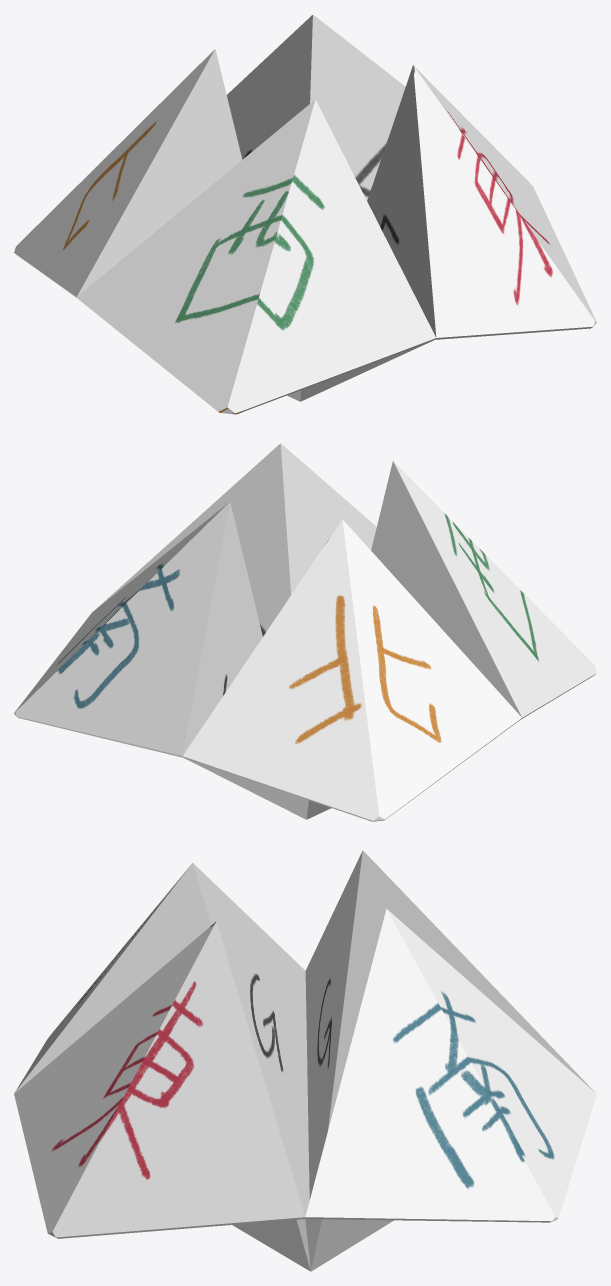
Rendered from paper_fortune_teller.fbx.
The picture shows the model from 3 angles, top to bottom: view 1: azimuth 30°, elevation 25°; view 2: azimuth 150°, elevation 25°; view 3: azimuth 270°, elevation 25°; orthographic projection. The views are drawn at different scales.
Visible parts, largest first — view 1: fortuneteller_origin; view 2: fortuneteller_origin; view 3: fortuneteller_origin.
Part boxes in pixels (x1,y1,x2,y2): fortuneteller_origin: [14, 15, 596, 414]; fortuneteller_origin: [14, 443, 596, 821]; fortuneteller_origin: [14, 850, 596, 1271].
Bounding box in the file's own units: 28.46 × 20.92 × 28.46.
